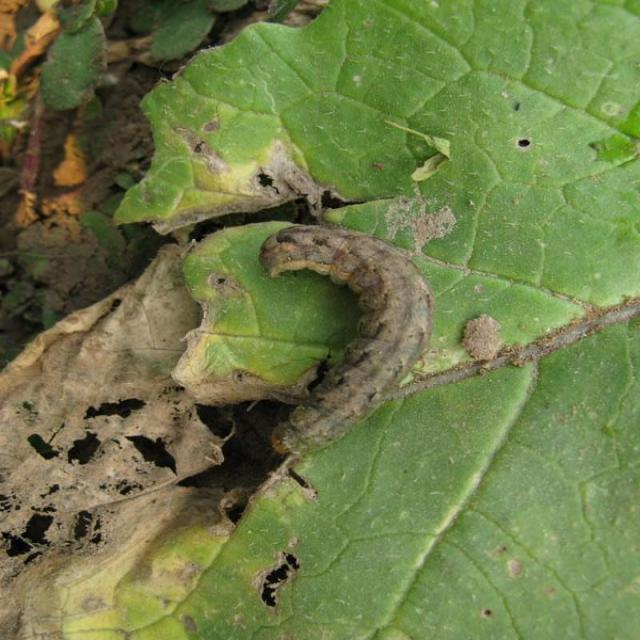armyworm: (267, 225, 439, 451)
